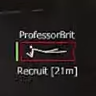hacks_3: (15, 30, 78, 78)
